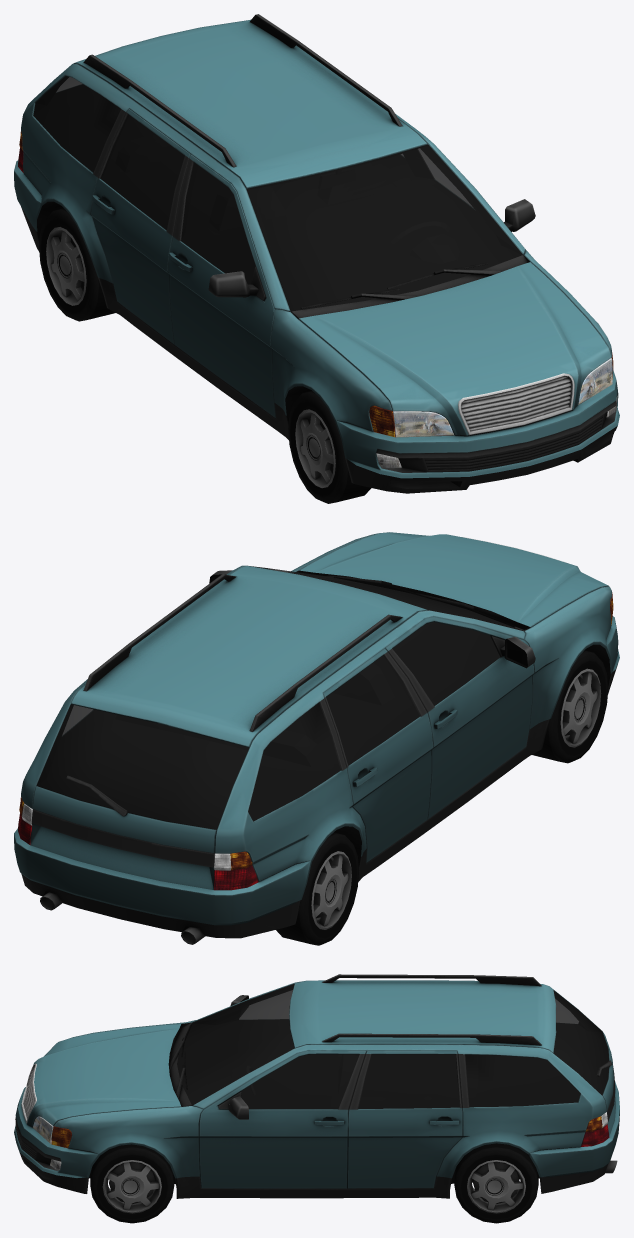
The model's file is Wagon.FBX.
3 views of the same model, one above another, from view 1: azimuth 30°, elevation 25°; view 2: azimuth 150°, elevation 25°; view 3: azimuth 270°, elevation 25° (orthographic). The views are drawn at different scales.
Visible parts, largest first — view 1: Wagon Body, Wheel_A002, Wheel_A003; view 2: Wagon Body, Wheel_A003, Wheel_A002; view 3: Wagon Body, Wheel_A001, Wheel_A.
Boxes of the visible parts, <box> form: Wagon Body: <box>14,14,619,493</box>; Wheel_A002: <box>288,391,371,503</box>; Wheel_A003: <box>39,208,115,321</box>; Wagon Body: <box>14,532,619,944</box>; Wheel_A003: <box>276,832,359,945</box>; Wheel_A002: <box>532,650,608,763</box>; Wagon Body: <box>14,974,619,1198</box>; Wheel_A001: <box>454,1143,538,1223</box>; Wheel_A: <box>90,1144,174,1223</box>.
Size of the model in its own units: 2194 by 1553 by 4932.
Materials: 4 (3 with a texture image).
